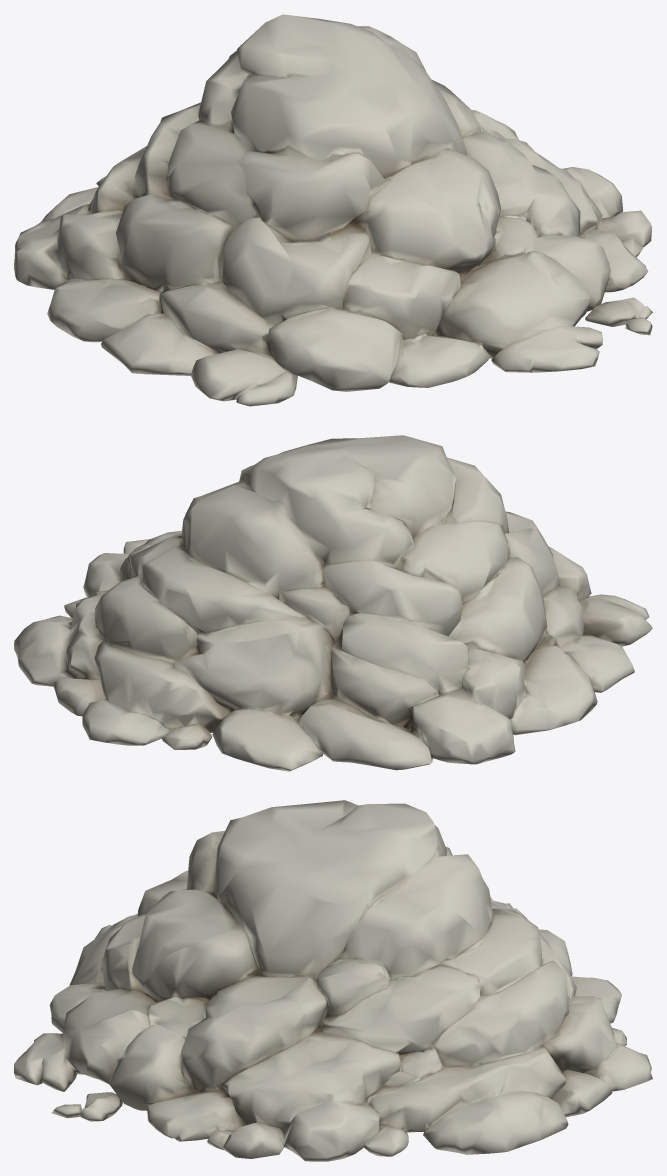
Rendered from boulder3.fbx.
The picture shows the model from 3 angles, top to bottom: view 1: azimuth 30°, elevation 25°; view 2: azimuth 150°, elevation 25°; view 3: azimuth 270°, elevation 25°; orthographic projection. The views are drawn at different scales.
Visible parts, largest first — view 1: tripo_node_b71b9e4e; view 2: tripo_node_b71b9e4e; view 3: tripo_node_b71b9e4e.
Part boxes in pixels (bbox=[...]): tripo_node_b71b9e4e: bbox=[14, 14, 652, 406]; tripo_node_b71b9e4e: bbox=[14, 435, 652, 771]; tripo_node_b71b9e4e: bbox=[14, 800, 652, 1161].
Size of the model in its own units: 0.9326 by 0.3597 by 0.9801.
